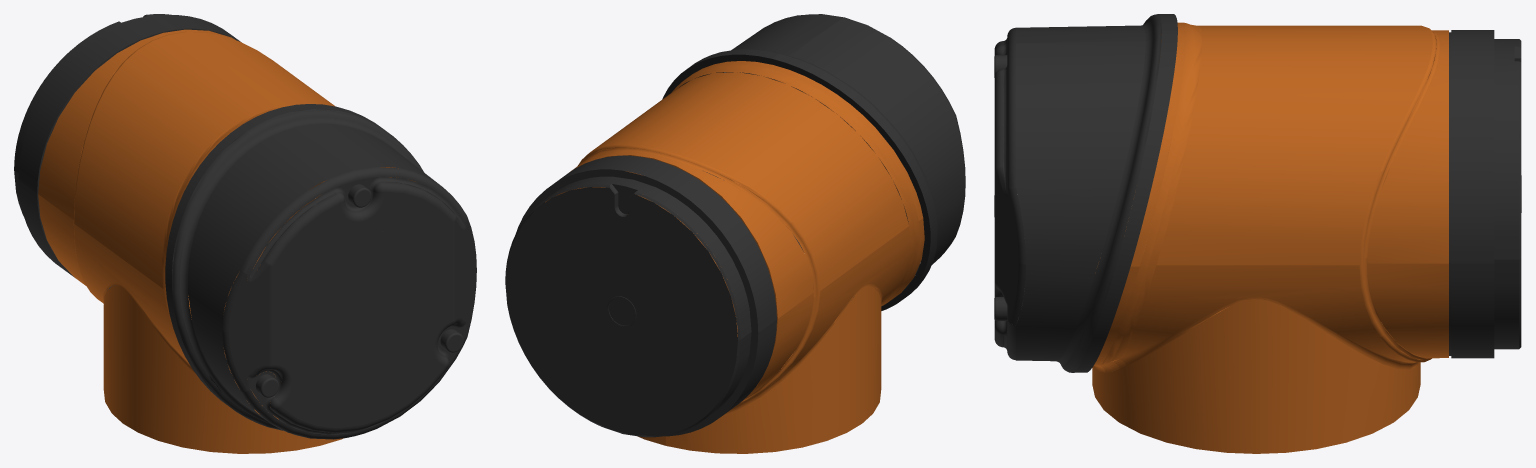
Rendered from wrist1_Link.DAE.
The picture shows the model from 3 angles, left to right: view 1: azimuth 30°, elevation 25°; view 2: azimuth 150°, elevation 25°; view 3: azimuth 270°, elevation 25°; orthographic projection. The views are drawn at different scales.
Visible parts, largest first — view 1: mesh; view 2: mesh; view 3: mesh.
Part boxes in pixels (x1,y1,x2,y2): mesh: (14, 14, 476, 453); mesh: (505, 14, 965, 453); mesh: (994, 14, 1521, 453).
Bounding box in the file's own units: 0.082 × 0.1205 × 0.0892.
